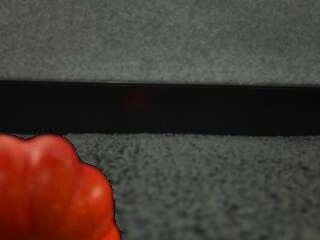Pumpkin: (0, 129, 122, 240)
